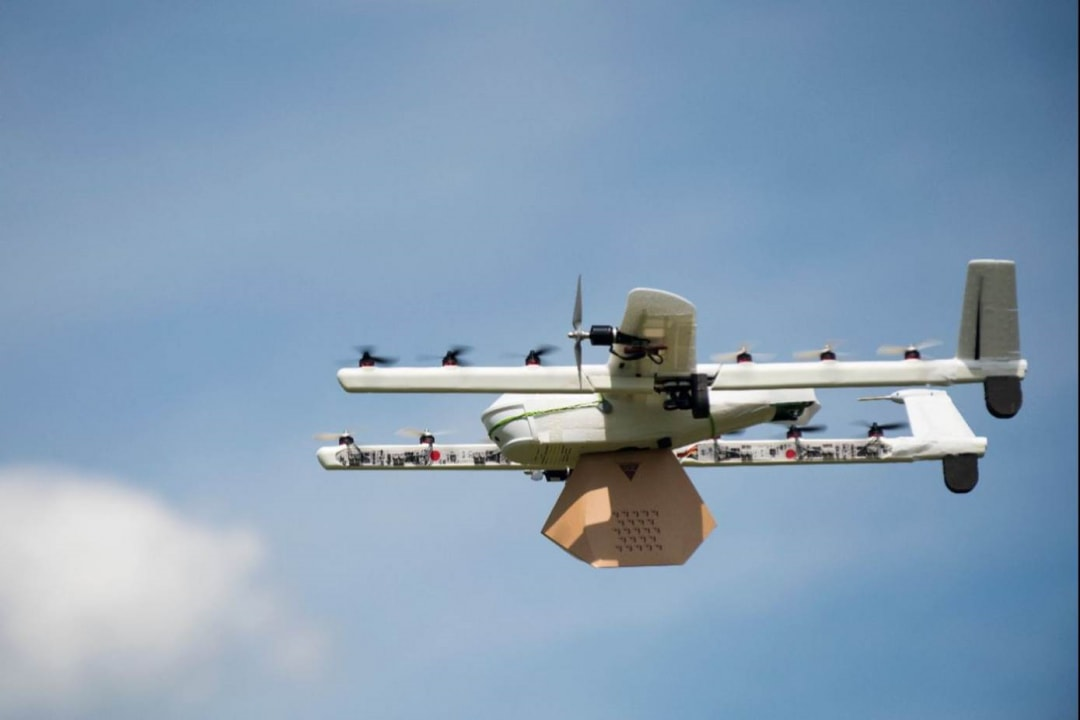drone: (301, 258, 1045, 568)
